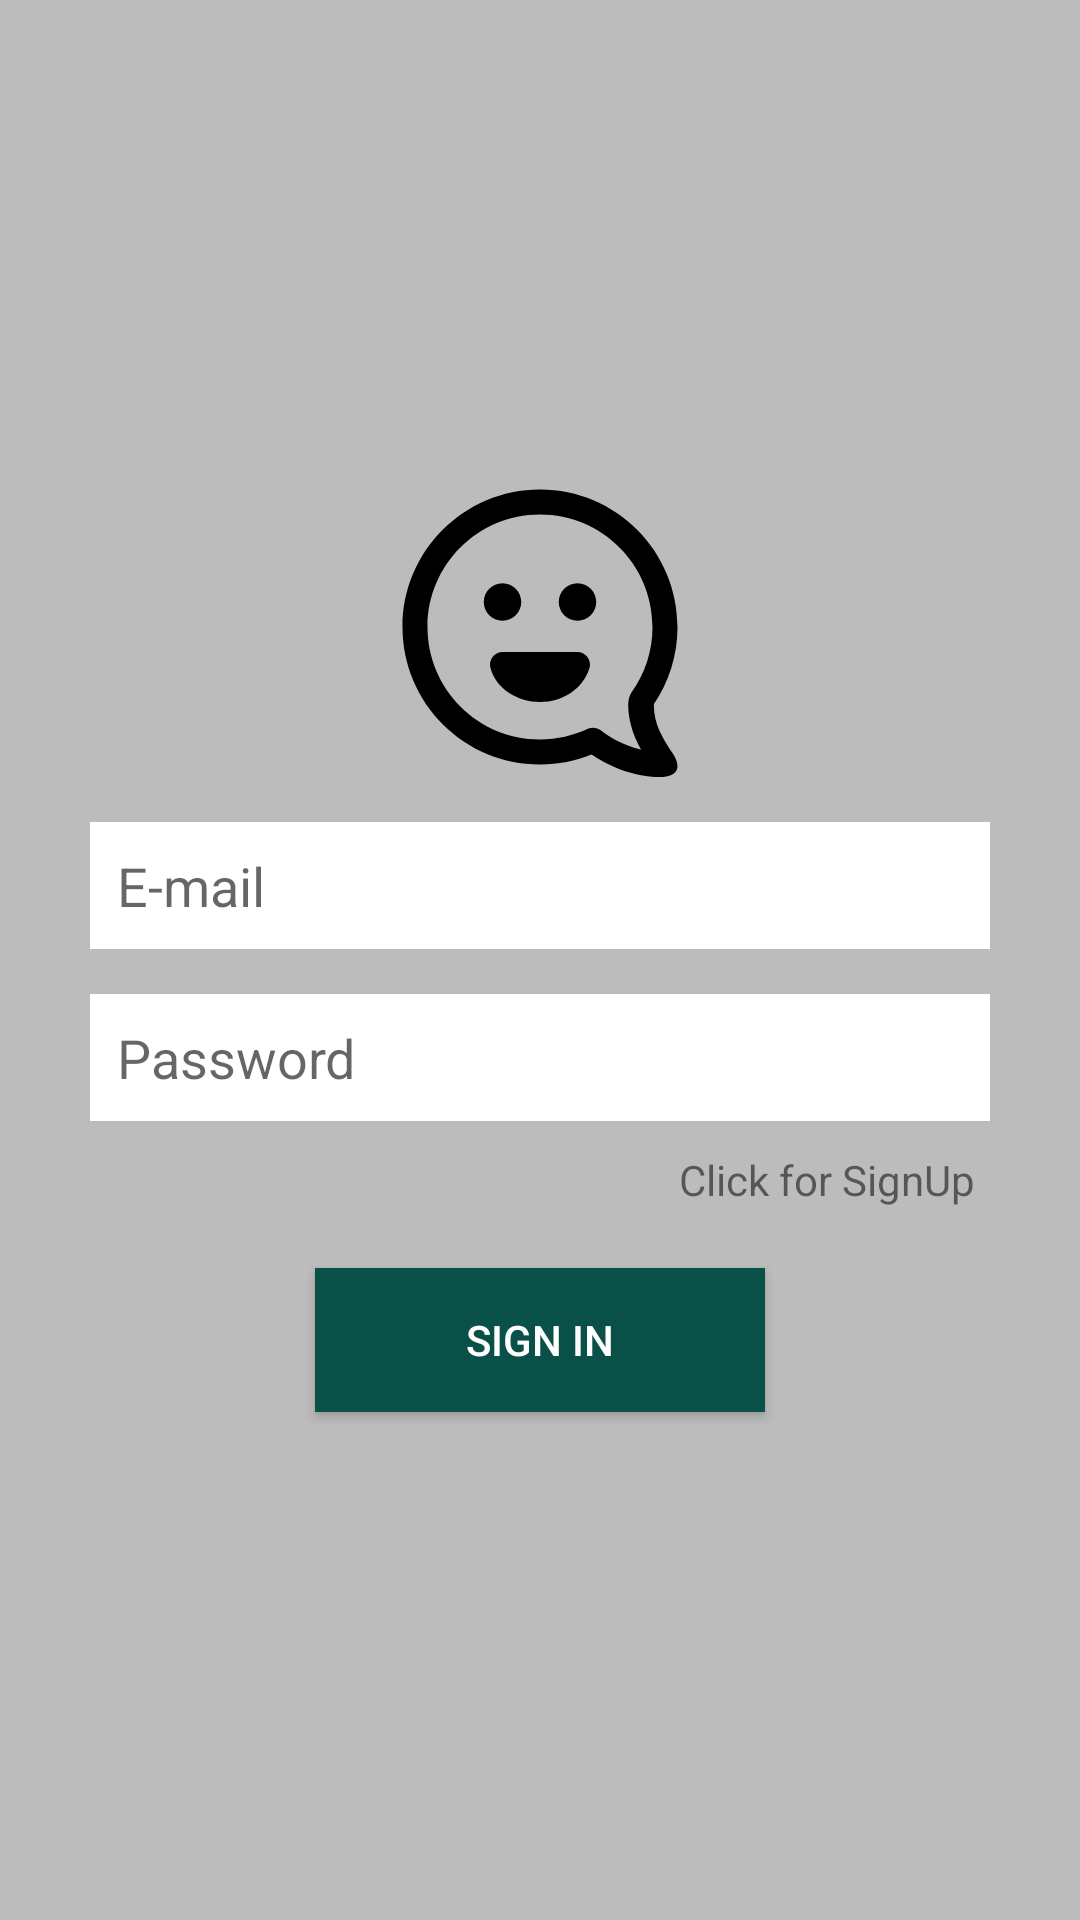

Icons on this 1080*1920 Android screen, each with the point to tap as point (x, y):
chat emoji: point (540, 633)
